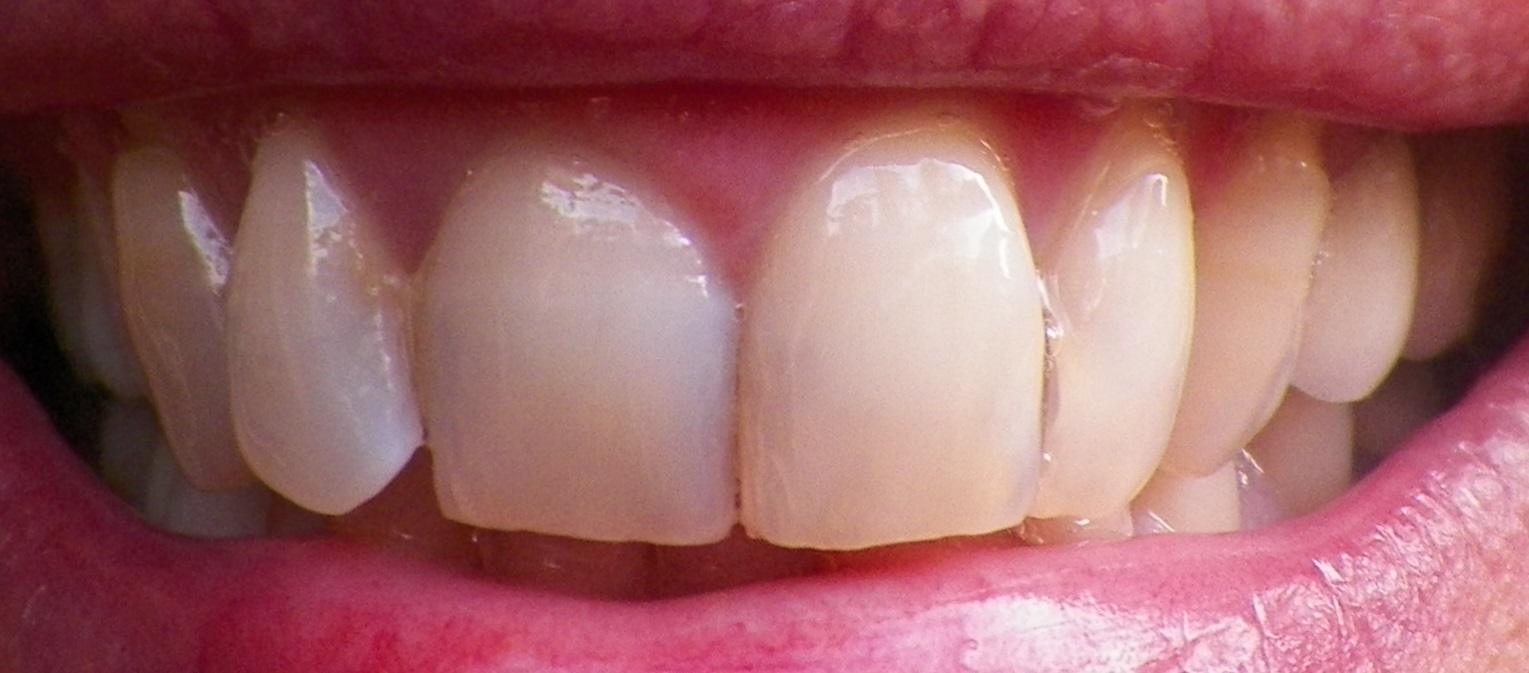boca: (11, 101, 1495, 556)
